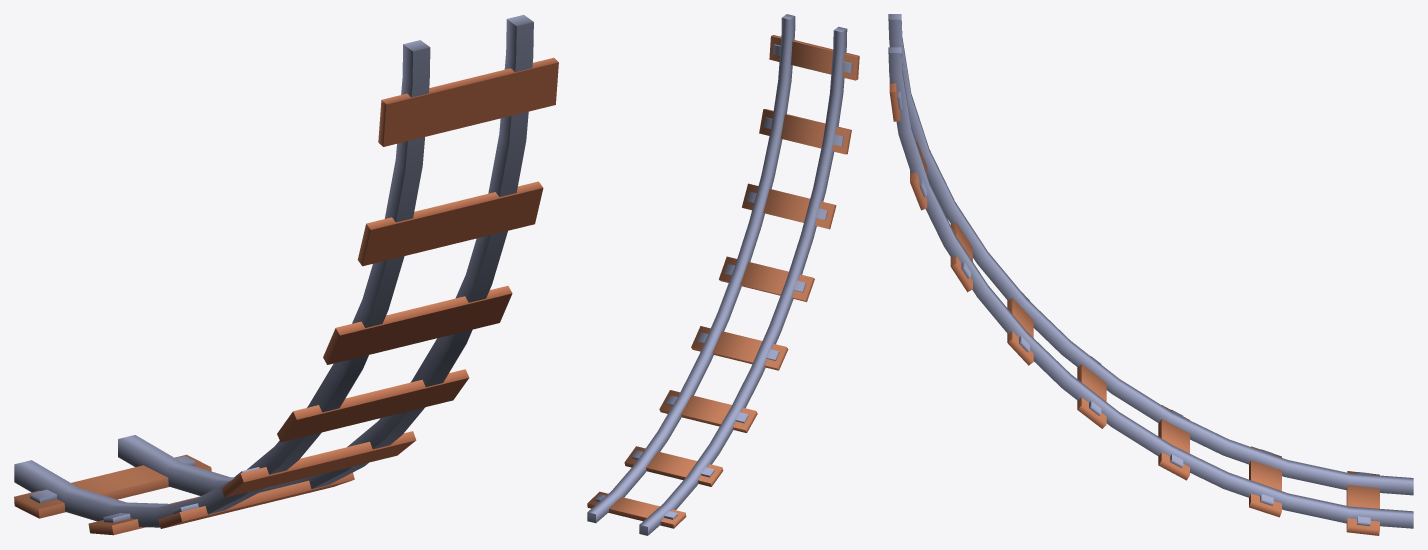
Rendered from railroad-straight-bend-large.glb.
The picture shows the model from 3 angles, left to right: view 1: azimuth 30°, elevation 25°; view 2: azimuth 150°, elevation 25°; view 3: azimuth 270°, elevation 25°; orthographic projection. The views are drawn at different scales.
Visible parts, largest first — view 1: railroad-straight-bend-large; view 2: railroad-straight-bend-large; view 3: railroad-straight-bend-large.
Part boxes in pixels (x1,y1,x2,y2): railroad-straight-bend-large: (14, 15, 558, 535); railroad-straight-bend-large: (587, 14, 859, 535); railroad-straight-bend-large: (888, 14, 1413, 535).
Size of the model in its own units: 1 by 4 by 4.
